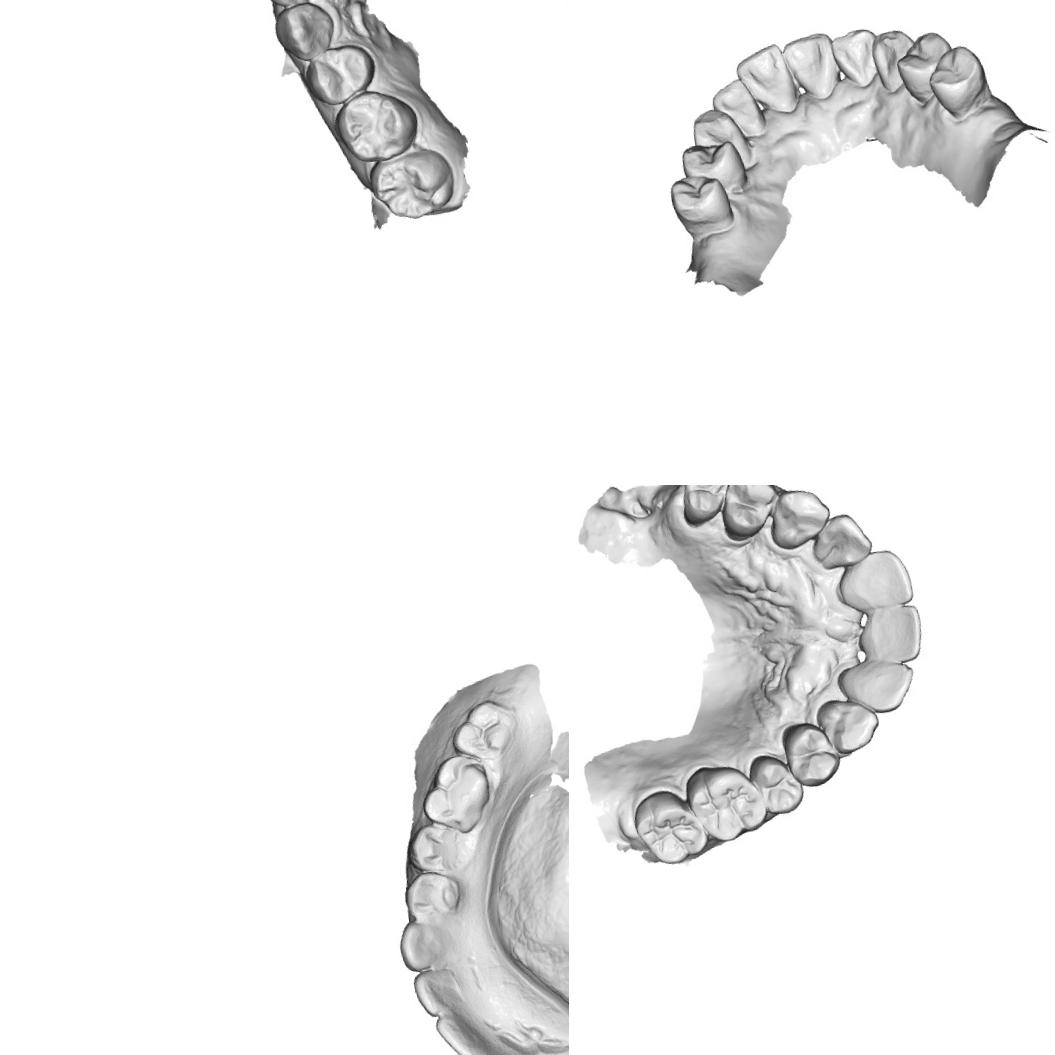canine: (763, 485, 834, 552), (814, 692, 883, 758), (270, 0, 339, 64), (688, 103, 754, 169), (393, 912, 452, 979), (867, 25, 922, 96)
incisor: (729, 38, 803, 122), (832, 546, 916, 616), (834, 654, 920, 720), (852, 602, 928, 668), (777, 28, 842, 104), (706, 74, 770, 144), (808, 510, 875, 572), (827, 25, 884, 92), (409, 962, 465, 1023), (431, 1004, 491, 1055), (475, 1039, 546, 1055)
molar: (682, 757, 772, 846), (414, 748, 501, 840), (331, 83, 424, 167), (364, 145, 458, 226), (629, 784, 712, 870), (444, 696, 518, 764), (714, 485, 783, 543), (674, 485, 739, 530)
premolar: (923, 41, 994, 122), (300, 40, 380, 110), (890, 28, 958, 109), (666, 167, 738, 239), (778, 717, 845, 792), (675, 134, 750, 198), (745, 750, 807, 818), (401, 870, 465, 926), (404, 819, 463, 876)
